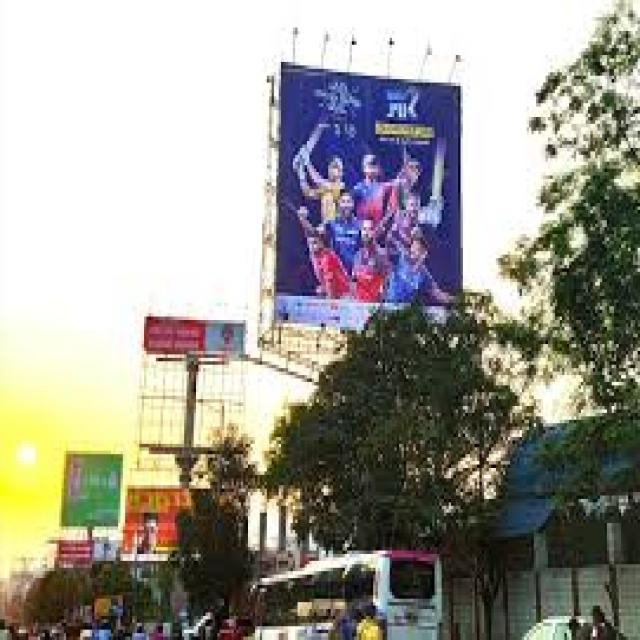Werbetafel frei: (279, 61, 463, 324), (117, 490, 248, 565), (62, 453, 124, 526), (144, 318, 244, 354)
